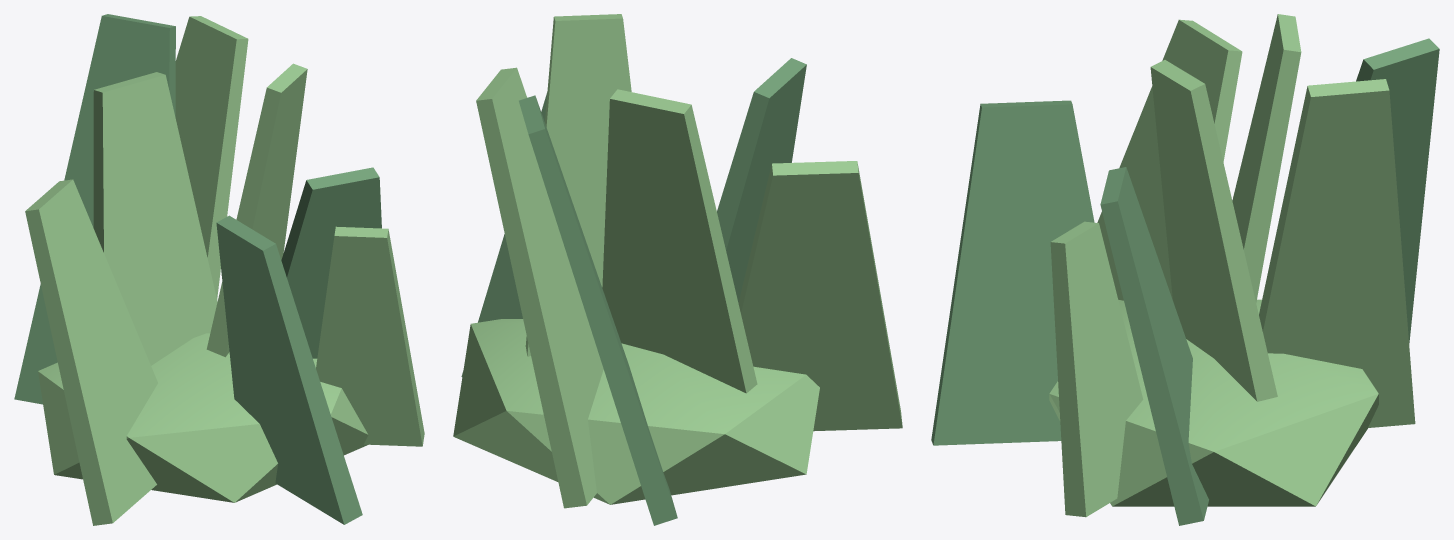
The model's file is hearthvale_grass_clump_small.glb.
3 renders of one model, left to right at view 1: azimuth 30°, elevation 25°; view 2: azimuth 150°, elevation 25°; view 3: azimuth 270°, elevation 25°, orthographic. The views are drawn at different scales.
Visible parts, largest first — view 1: hearthvale_grass_clump_small; view 2: hearthvale_grass_clump_small; view 3: hearthvale_grass_clump_small.
Part boxes in pixels (x1,y1,x2,y2): hearthvale_grass_clump_small: (14,14,424,525); hearthvale_grass_clump_small: (453,14,902,525); hearthvale_grass_clump_small: (931,14,1439,525).
Size of the model in its own units: 0.216 by 0.2267 by 0.2363.
